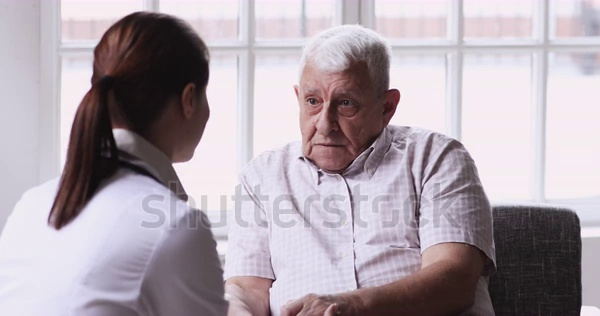No Mask: (292, 33, 405, 174)
